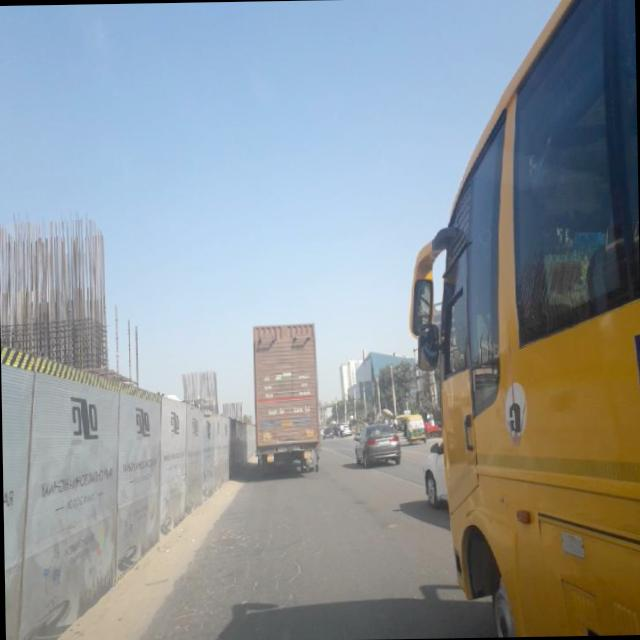crack: (154, 510, 314, 634)
